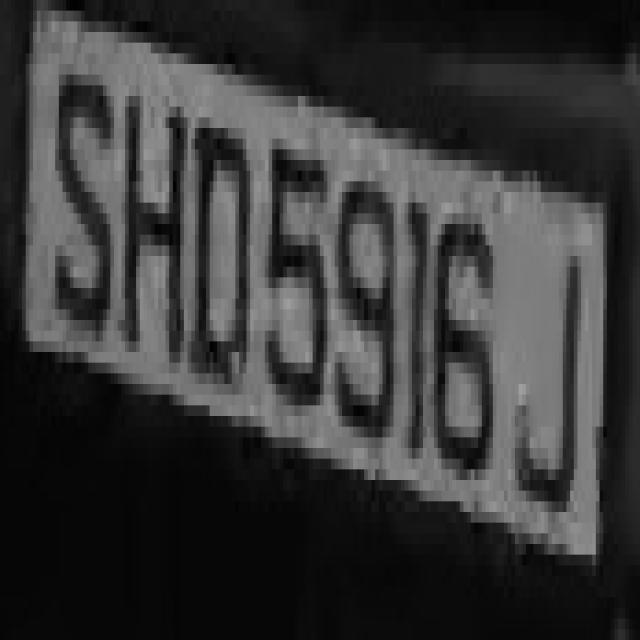1: (408, 138, 442, 490)
5: (265, 117, 331, 427)
6: (434, 171, 497, 544)
9: (334, 128, 404, 469)
D: (188, 75, 254, 405)
H: (122, 54, 192, 374)
J: (508, 171, 592, 544)
S: (48, 21, 106, 342)
